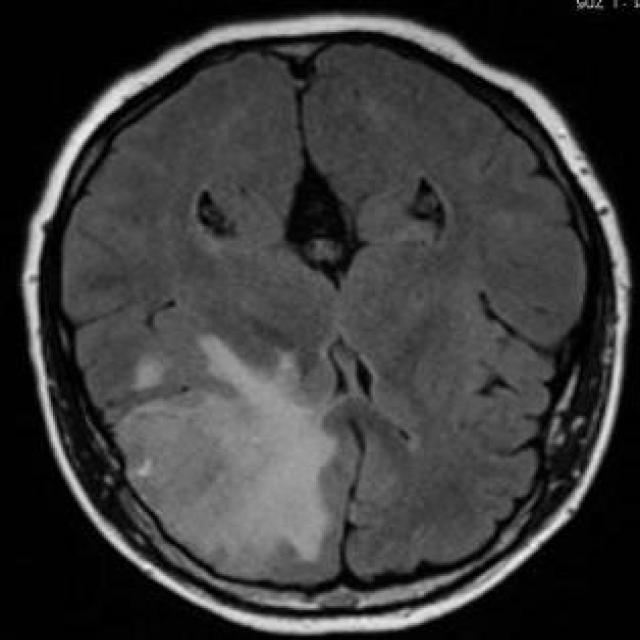brain tumor: (112, 333, 340, 580)
